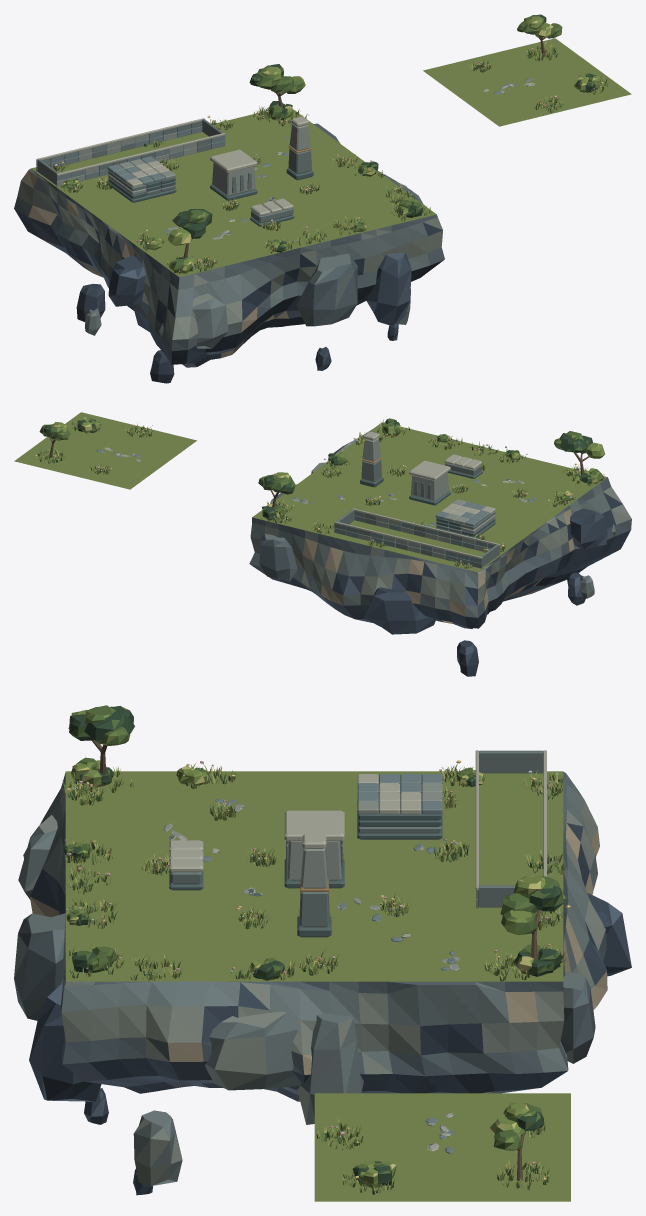
The model's file is island.glb.
3 views of the same model, one above another, from view 1: azimuth 30°, elevation 25°; view 2: azimuth 150°, elevation 25°; view 3: azimuth 270°, elevation 25° (orthographic). The views are drawn at different scales.
Parts seen in each view (by area): view 1: GrassCap, Cliff, CliffDebris, Masonry, Meadow, LandingCap, FlagstoneFragments; view 2: Cliff, GrassCap, Masonry, LandingCap, Meadow, CliffDebris, FlagstoneFragments; view 3: GrassCap, Cliff, CliffDebris, LandingCap, Meadow, Masonry, FlagstoneFragments.
Part boxes in pixels (x1,y1,x2,y2): GrassCap: (31,110,436,277); Cliff: (14,123,444,367); CliffDebris: (76,184,411,383); Masonry: (36,116,313,226); Meadow: (52,14,607,274); LandingCap: (423,38,631,126); FlagstoneFragments: (163,78,534,239); Cliff: (249,429,631,628); GrassCap: (252,422,607,572); Masonry: (334,431,499,568); LandingCap: (14,412,196,489); Meadow: (35,417,604,568); CliffDebris: (259,462,615,676); FlagstoneFragments: (97,447,537,527); GrassCap: (65,771,563,981); Cliff: (23,771,607,1101); CliffDebris: (14,768,631,1195); LandingCap: (314,1093,570,1201); Meadow: (62,705,570,1194); Masonry: (169,750,546,937); FlagstoneFragments: (163,799,459,1153).
Bounding box in the file's own units: 25.56 × 8.5 × 14.46.
